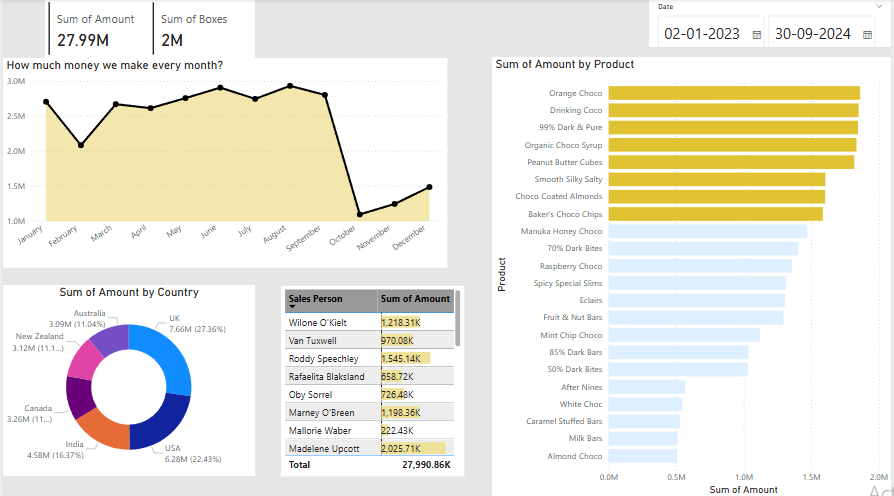

Layout of this report page (visuals, bound fields, positions):
{"tool":"powerbi","page":{"name":"my first report","canvas":[1280,720],"ordinal":1},"visuals":[{"type":"lineChart","title":"How much money we make every month?","fields":{"Category":["data.Date.Variation.Date Hierarchy.Year","data.Date.Variation.Date Hierarchy.Quarter","data.Date.Variation.Date Hierarchy.Month","data.Date.Variation.Date Hierarchy.Day"],"Y":["data.Amount"]},"box":[0,85.7,640,302.4],"z":0},{"type":"donutChart","fields":{"Category":["data.Country"],"Y":["data.Amount"]},"box":[0,411.5,362.8,275.5],"z":1000},{"type":"tableEx","fields":{"Values":["data.Sales Person","data.Amount"]},"box":[399.8,413.2,263.7,273.8],"z":2000},{"type":"clusteredBarChart","fields":{"Category":["data.Product"],"Y":["data.Amount"]},"box":[703.8,84,576.2,636.6],"z":3000},{"type":"cardVisual","fields":{"Data":["data.Amount","data.Boxes"]},"box":[60.5,0,302.4,85.7],"z":4000},{"type":"slicer","fields":{"Values":["data.Date"]},"box":[930.6,0,349.4,68.9],"z":5000}]}

Visuals, with their boxes in screenshot pixels (x1, y1, x2, y2), scaled from the page's 1280x720 canvas onto the 894x496 screenshot:
"How much money we make every month?" lineChart: <box>0,59,447,267</box>
donutChart - data.Country x data.Amount: <box>0,283,253,473</box>
tableEx - data.Sales Person x data.Amount: <box>279,285,463,473</box>
clusteredBarChart - data.Product x data.Amount: <box>492,58,893,495</box>
cardVisual - data.Amount x data.Boxes: <box>42,0,253,59</box>
slicer - data.Date: <box>650,0,893,47</box>
